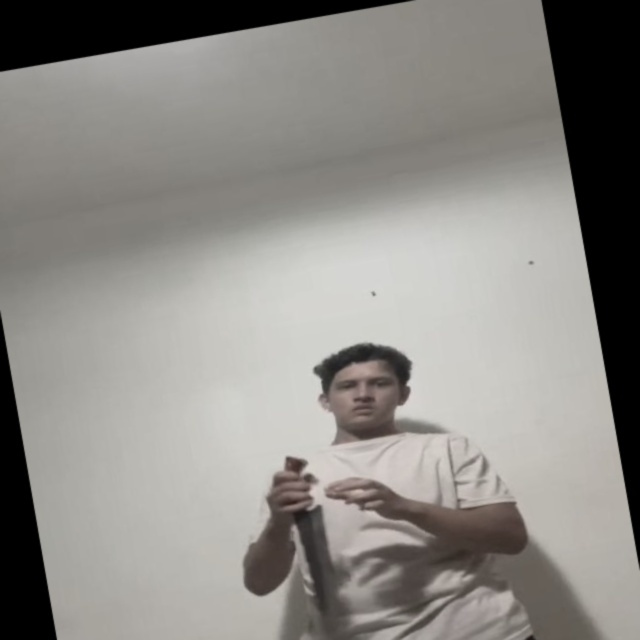Sharp-Object: (295, 507, 339, 617)
